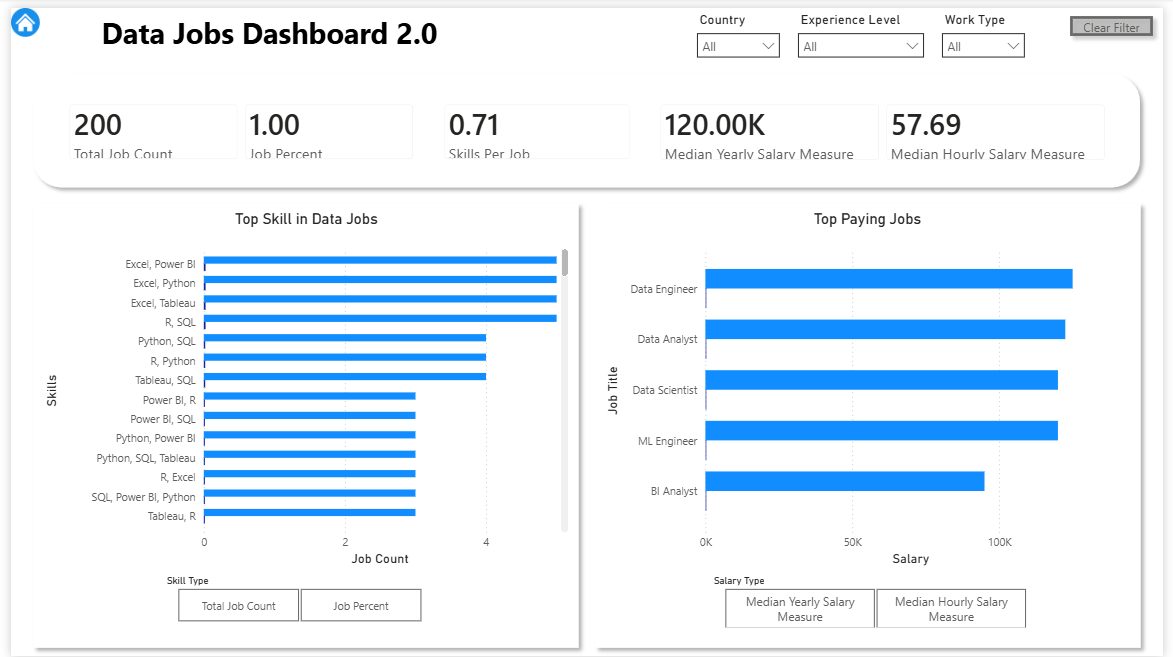

The dashboard page shown, as its layout file describes it:
{"tool":"powerbi","page":{"name":"Dashboard 2.0","canvas":[1280,720],"ordinal":1},"visuals":[{"type":"shape","box":[16,208,624,512],"z":0},{"type":"shape","box":[640,208,624,512],"z":1000},{"type":"shape","box":[16,64,1248,144],"z":2000},{"type":"textbox","box":[96,0,400,64],"z":3000},{"type":"slicer","fields":{"Values":["Select Salary Measure.Select Salary Measure"]},"box":[768,624,384,64],"z":4000},{"type":"slicer","fields":{"Values":["Select Skill Measure.Select Skill Measure"]},"box":[160,624,320,64],"z":5000},{"type":"cardVisual","fields":{"Data":["Measures (2).Total Job Count","Measures (2).Job Percent"]},"box":[47.9,89.7,416,96],"z":6000},{"type":"clusteredBarChart","title":"Top Skill in Data Jobs","fields":{"Y":["Measures (2).Total Job Count","Measures (2).Job Percent"],"Category":["Jobs.Skills"]},"box":[32,224,592,400],"z":7000},{"type":"clusteredBarChart","title":"Top Paying Jobs","fields":{"Y":["Measures (2).Median Yearly Salary Measure","Measures (2).Median Hourly Salary Measure"],"Category":["Jobs.Job Title"]},"box":[656,224,592,400],"z":8000},{"type":"cardVisual","fields":{"Data":["Measures (2).Skills Per Job"]},"box":[463.9,89.7,240,96],"z":9000},{"type":"cardVisual","fields":{"Data":["Measures (2).Median Yearly Salary Measure","Measures (2).Median Hourly Salary Measure"]},"box":[703.9,89.7,528,96],"z":10000},{"type":"actionButton","box":[1168,0,110,40],"z":11000},{"type":"slicer","fields":{"Values":["Jobs.Country"]},"box":[752,0,112,64],"z":12000},{"type":"slicer","fields":{"Values":["Jobs.Experience Level"]},"box":[864,0,160,64],"z":13000},{"type":"slicer","fields":{"Values":["Jobs.Work Type"]},"box":[1024,0,112,64],"z":14000},{"type":"actionButton","box":[0,0,32,32],"z":15000},{"type":"image","box":[0,0,32,32],"z":16000}]}

Visuals, with their boxes in screenshot pixels (x1, y1, x2, y2), scaled from the page's 1280x720 canvas onto the 1173x657 screenshot:
shape: x1=15 y1=190 x2=586 y2=656
shape: x1=586 y1=190 x2=1158 y2=656
shape: x1=15 y1=58 x2=1158 y2=190
textbox: x1=88 y1=0 x2=455 y2=58
slicer - Select Salary Measure.Select Salary Measure: x1=704 y1=569 x2=1056 y2=628
slicer - Select Skill Measure.Select Skill Measure: x1=147 y1=569 x2=440 y2=628
cardVisual - Measures (2).Total Job Count x Measures (2).Job Percent: x1=44 y1=82 x2=425 y2=169
"Top Skill in Data Jobs" clusteredBarChart: x1=29 y1=204 x2=572 y2=569
"Top Paying Jobs" clusteredBarChart: x1=601 y1=204 x2=1144 y2=569
cardVisual - Measures (2).Skills Per Job: x1=425 y1=82 x2=645 y2=169
cardVisual - Measures (2).Median Yearly Salary Measure x Measures (2).Median Hourly Salary Measure: x1=645 y1=82 x2=1129 y2=169
actionButton: x1=1070 y1=0 x2=1171 y2=36
slicer - Jobs.Country: x1=689 y1=0 x2=792 y2=58
slicer - Jobs.Experience Level: x1=792 y1=0 x2=938 y2=58
slicer - Jobs.Work Type: x1=938 y1=0 x2=1041 y2=58
actionButton: x1=0 y1=0 x2=29 y2=29
image: x1=0 y1=0 x2=29 y2=29
